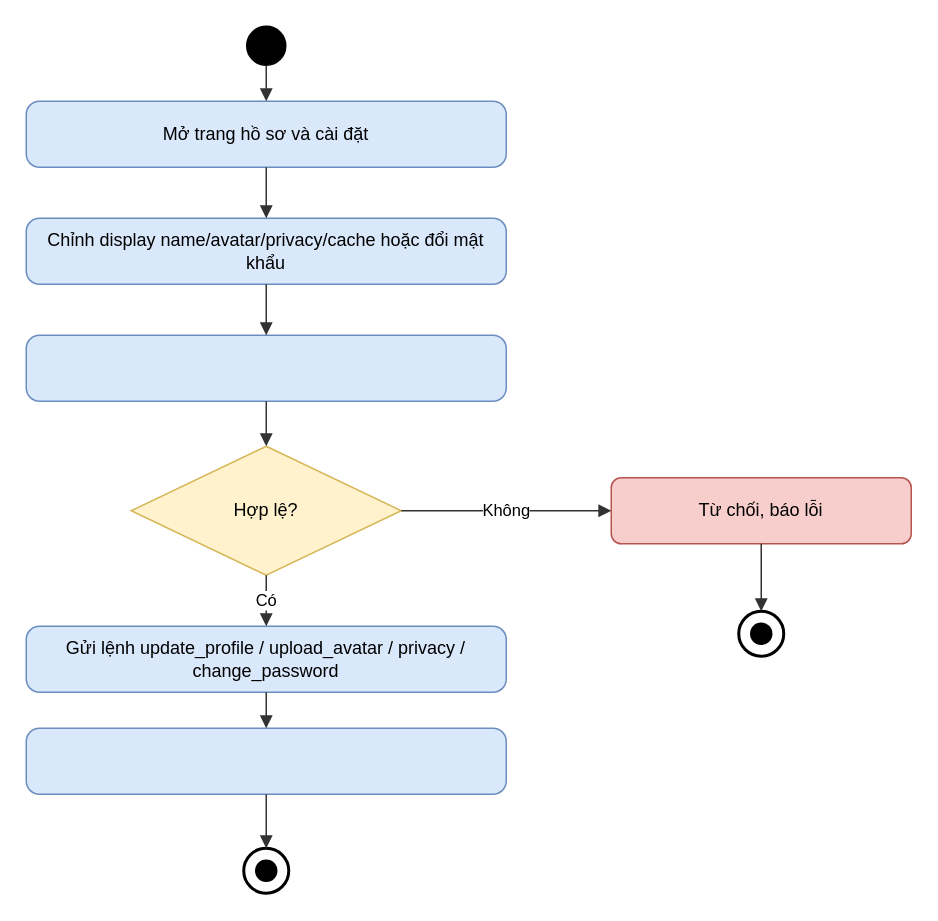
This 938x921 diagram has some shape labels left out. The centre of each missing label's shape, as x and y in pixels:
"Client kiểm tra hợp lệ (mime/size, độ dài)" belongs at point (265, 367).
"Server lưu; nếu đổi mật khẩu, client re-wrap local state" belongs at point (265, 760).
